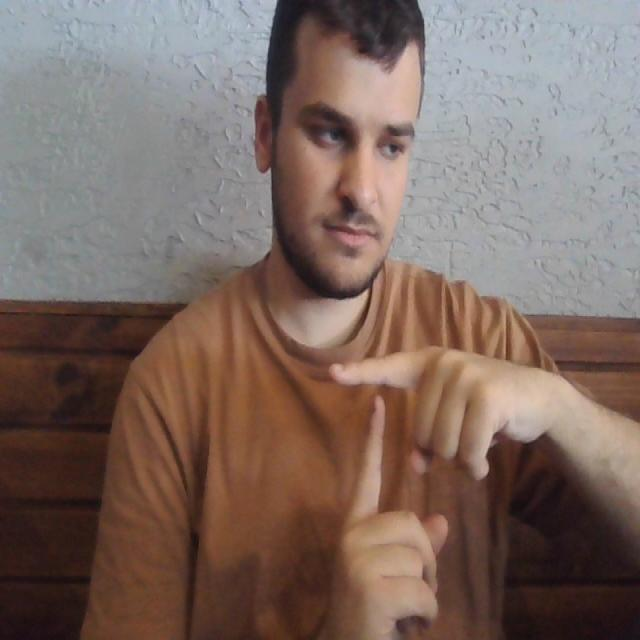Tesekkurler: (314, 340, 435, 542)
